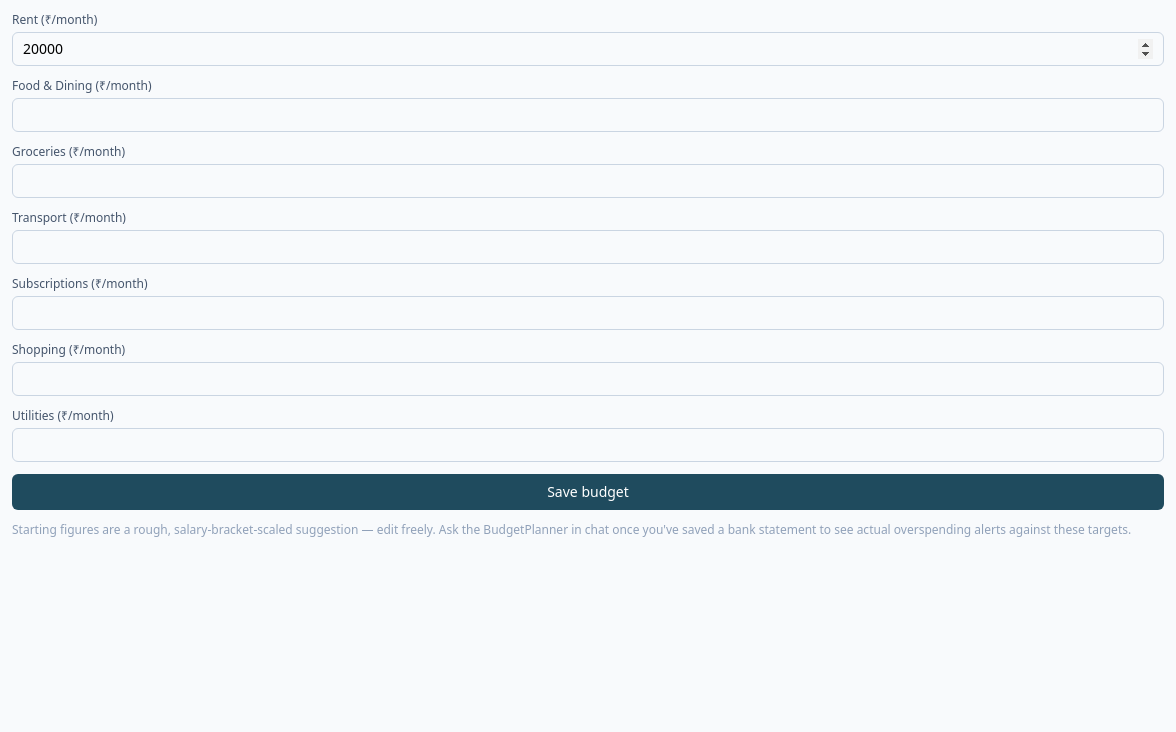
BudgetForm › saves only the non-blank category values and shows the saved state
Expected: the number field labelled "Rent (₹/month)" holds "20000", [12,32,1164,66]
Step 1. Click the button "Save budget" → (588, 492), box [12,474,1164,510]
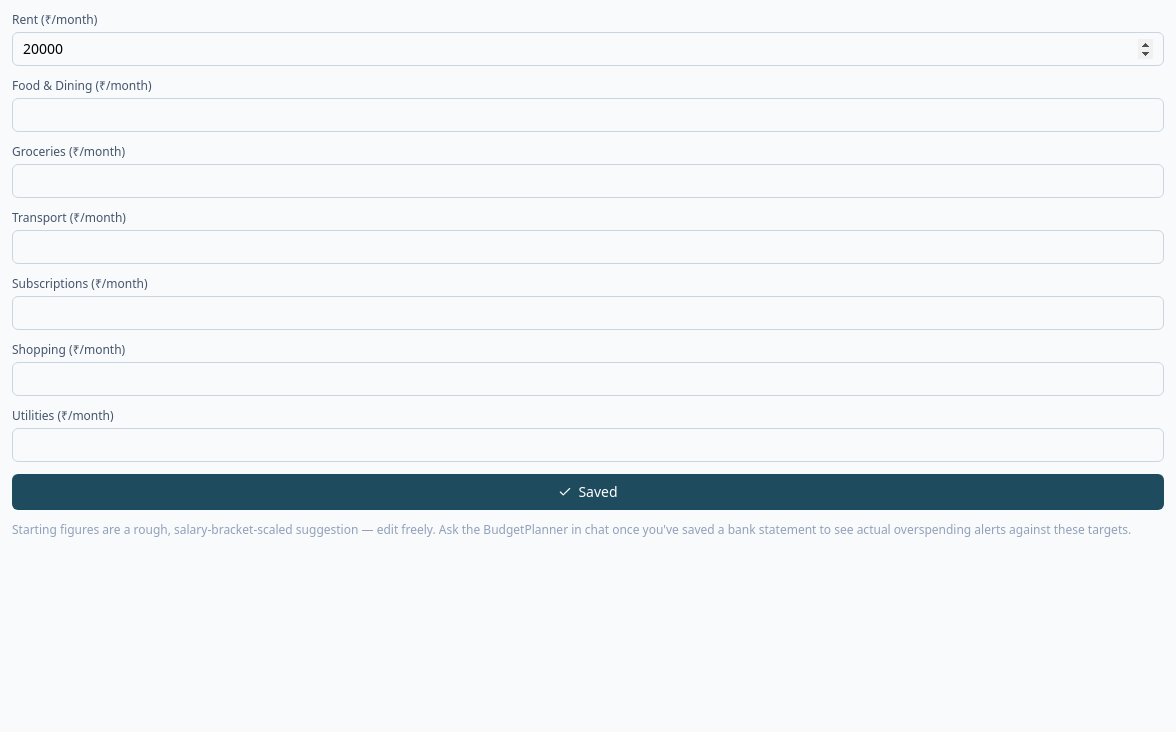
Now the button "Saved" is shown, box [12,474,1164,510]
